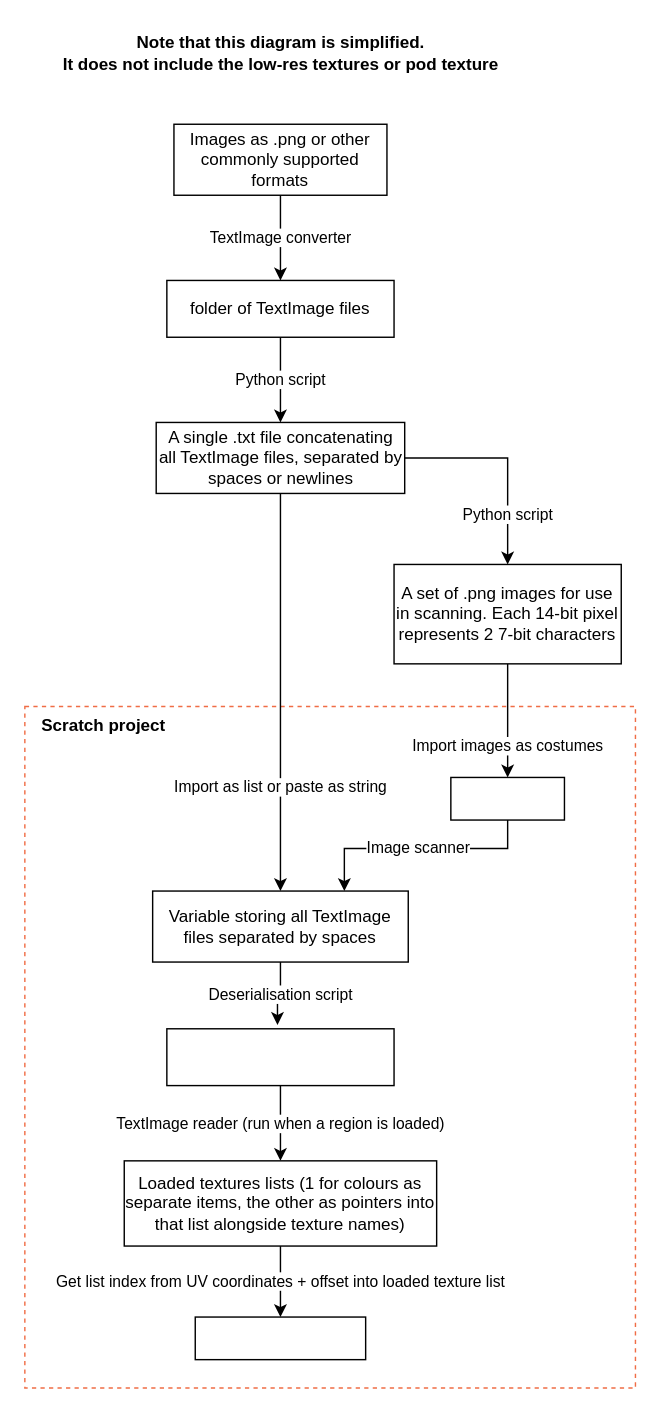
Image size: 660x1413. Some labels were removed from this diagram. Each missing label, with the centre of its shape:
"compressed textures" list: pixel 279 1056
Costumes: pixel 506 798
Textured tri filler: pixel 280 1338
